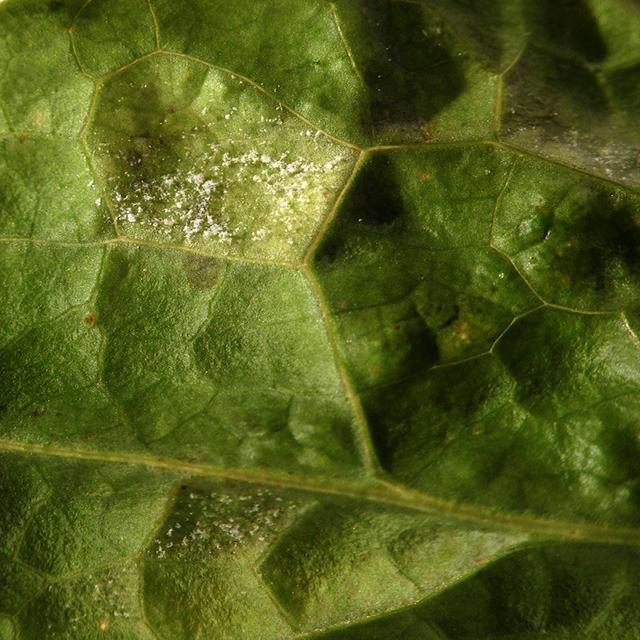Powdery_mildew_on_lettuce: (72, 66, 366, 274)
